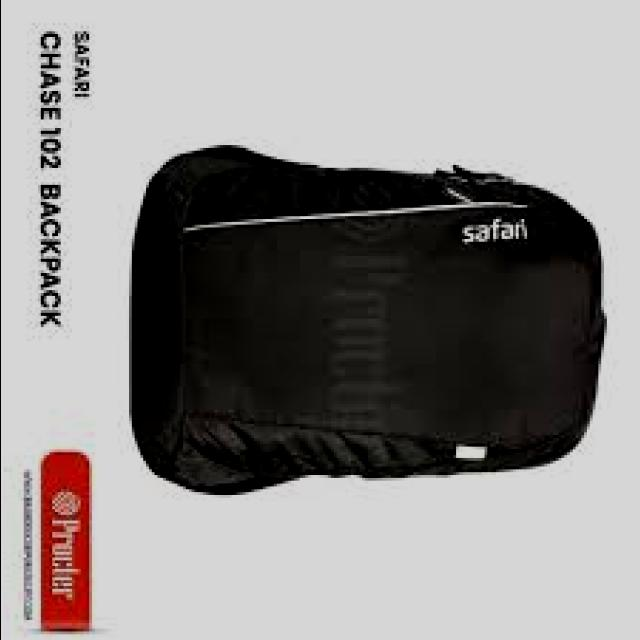backpack: (132, 144, 610, 496)
